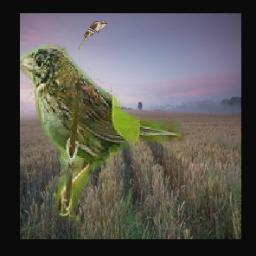Cuckoo: (77, 20, 107, 50)
Sparrow: (20, 44, 184, 221)
